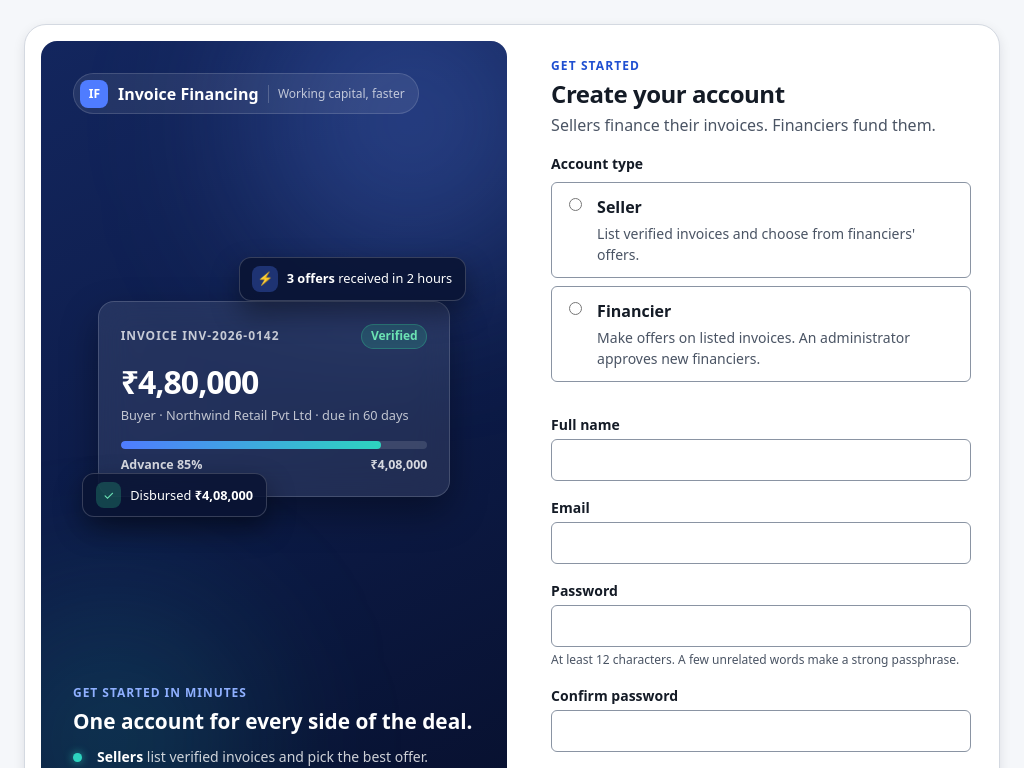
Scenario: RegisterComponent › registers a seller with trimmed details and offers sign-in
Click the 1st radio button: click(576, 205) x1=569 y1=198 x2=582 y2=211
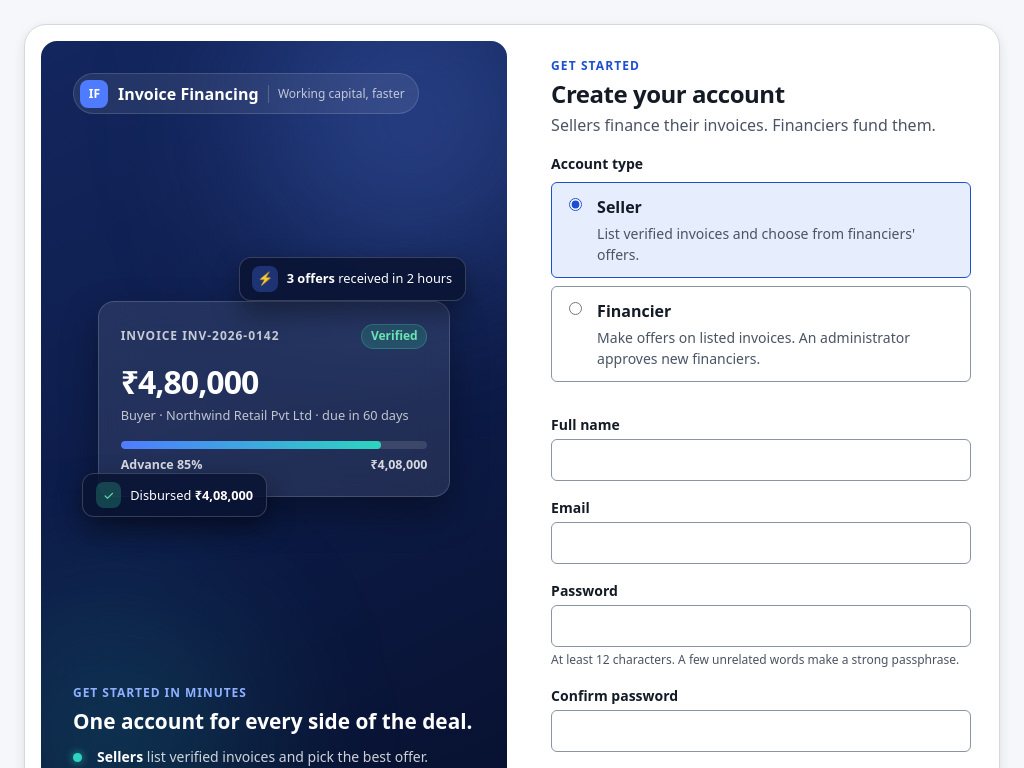
In the field labelled "Full name": (761, 460) x1=551 y1=439 x2=971 y2=481, type "  Asha Rao "
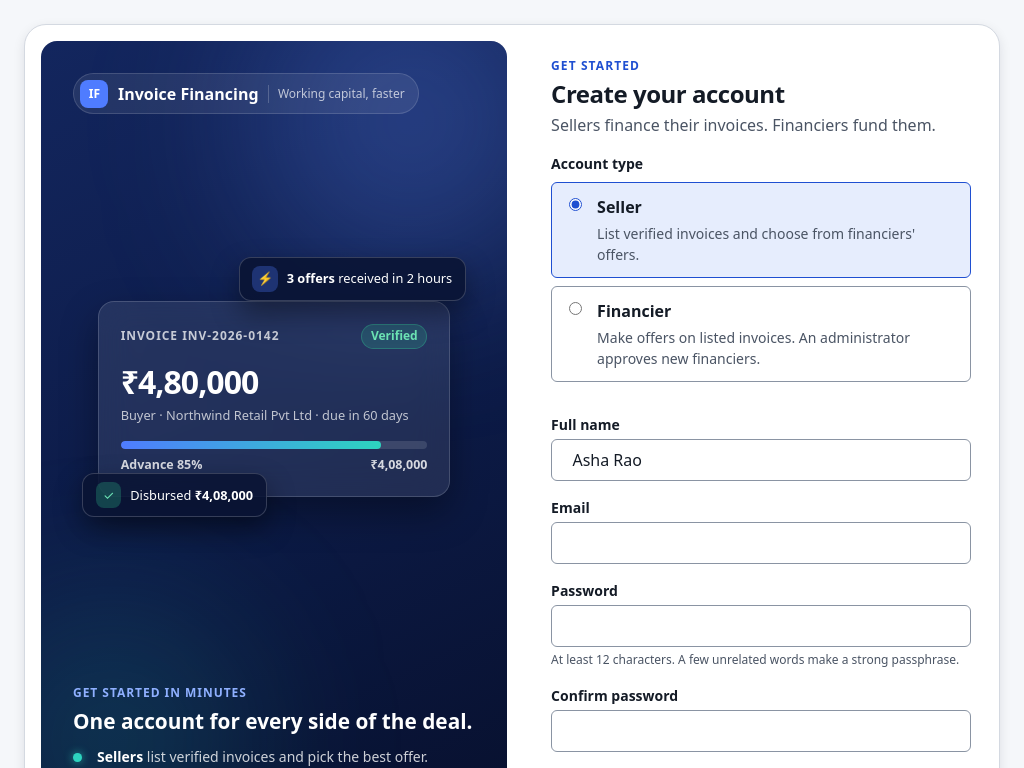
In the field labelled "Email": (761, 543) x1=551 y1=522 x2=971 y2=564, type " asha@example.test "
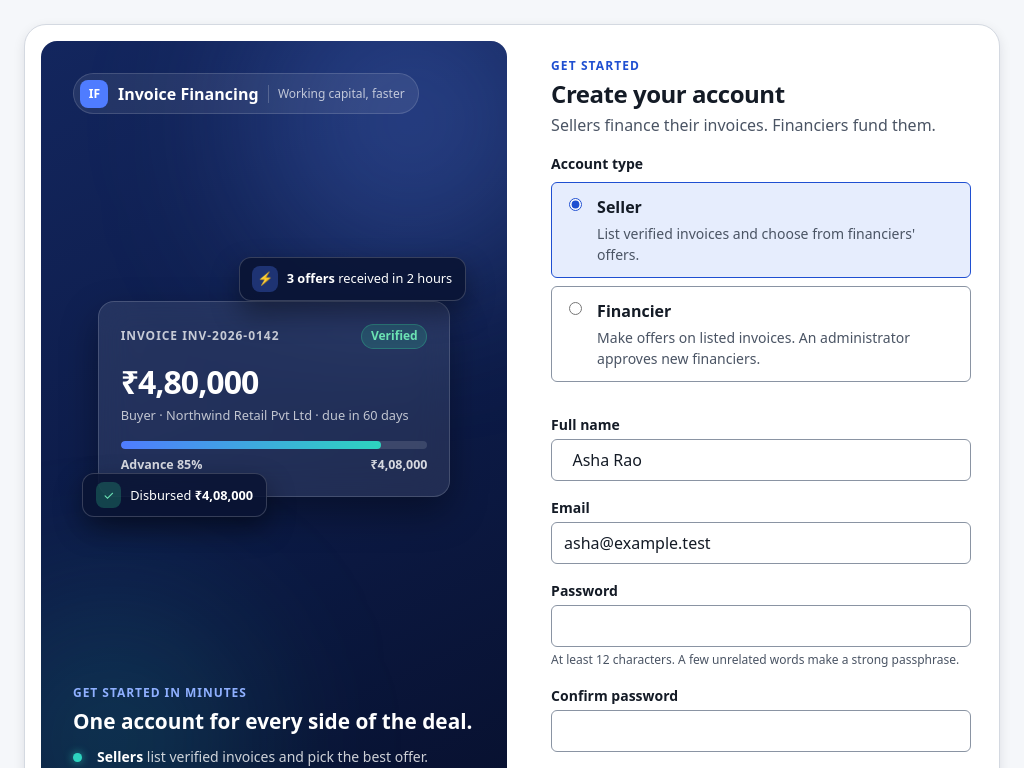
In the password field labelled "Password": (761, 626) x1=551 y1=605 x2=971 y2=647, type "violet harbour lantern"
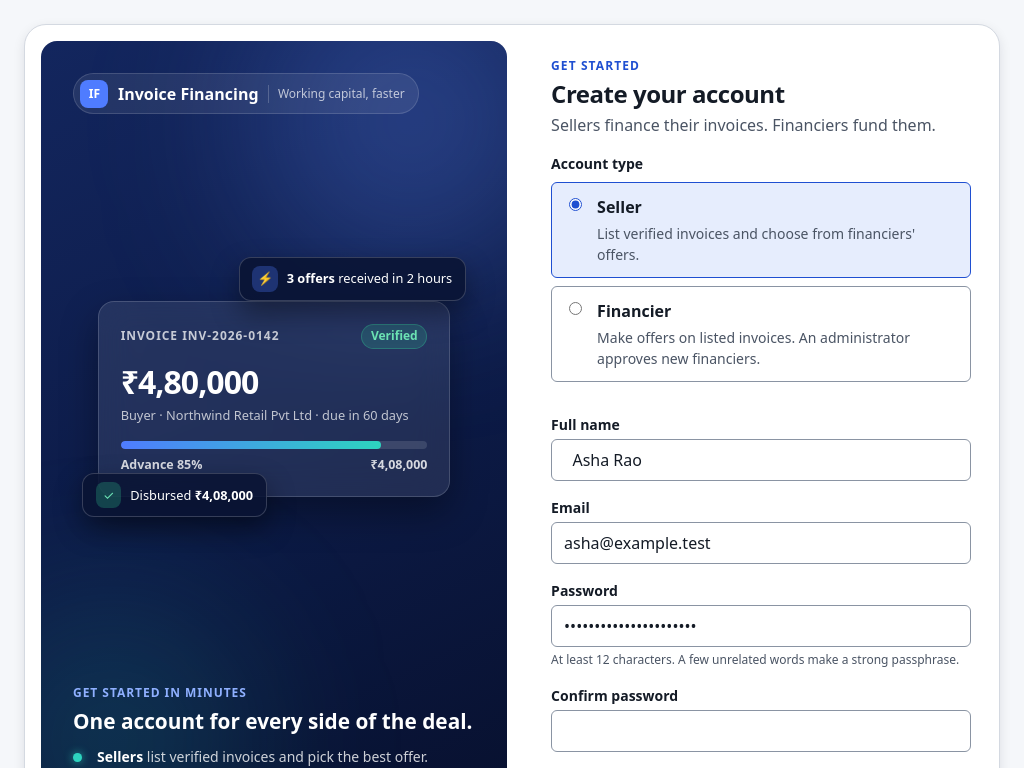
In the password field labelled "Confirm password": (761, 731) x1=551 y1=710 x2=971 y2=752, type "violet harbour lantern"
(page scrolled)
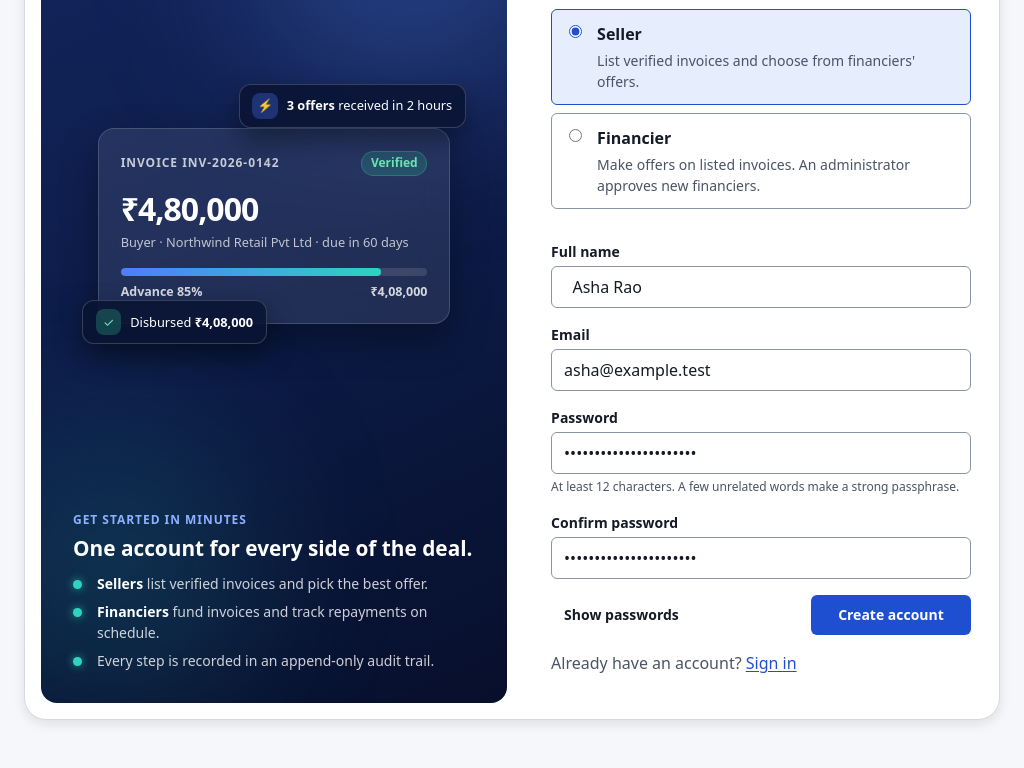
Click the submit button: click(891, 615) x1=811 y1=595 x2=971 y2=635
(page scrolled)
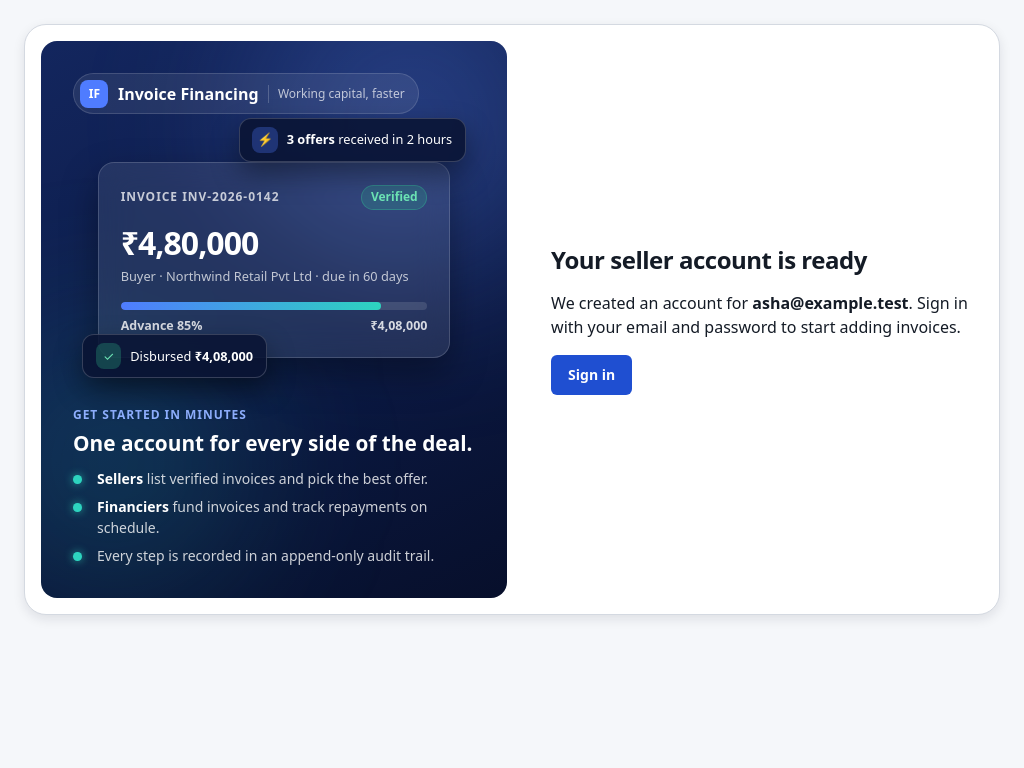
Check: the heading "Your seller account is ready" is shown, box x1=551 y1=242 x2=867 y2=276
Check: the link to "/login" reads "Sign in", box x1=551 y1=354 x2=632 y2=394
